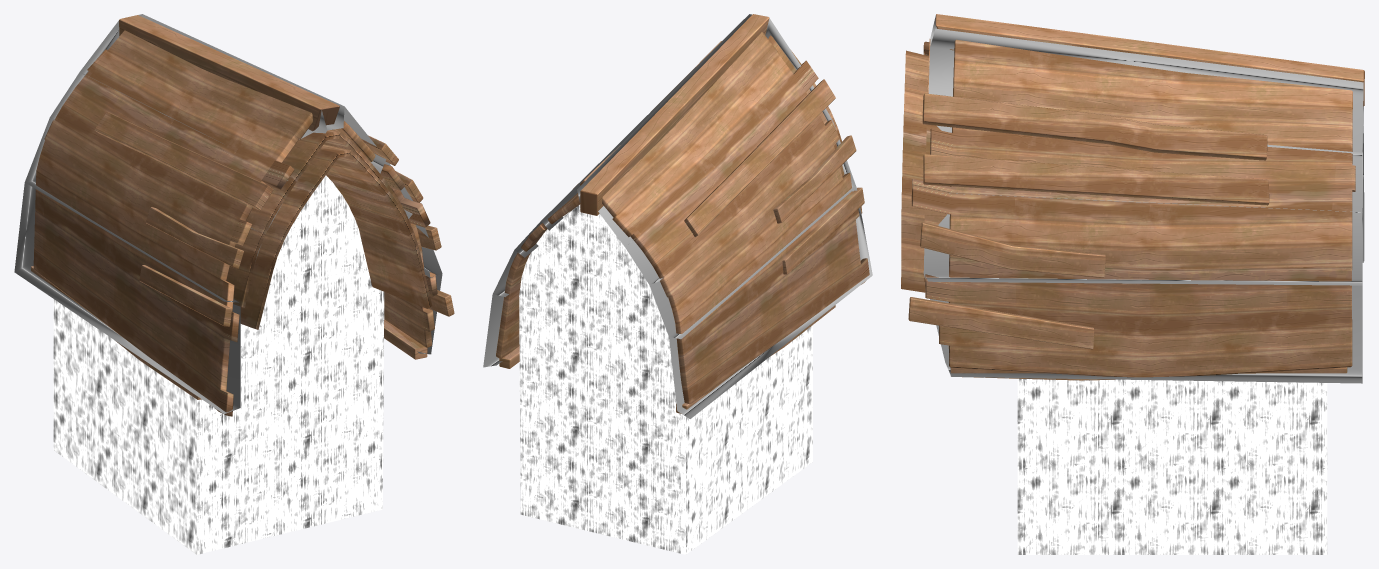
Rendered from SM_BuildingBase_03.gltf.
3 views of the same model, side by side, from view 1: azimuth 30°, elevation 25°; view 2: azimuth 150°, elevation 25°; view 3: azimuth 270°, elevation 25° (orthographic). The views are drawn at different scales.
Parts seen in each view (by area): view 1: SM_BuildingBase_03_LOD0, SM_BuildingBase_03_ConvexHulls; view 2: SM_BuildingBase_03_LOD0, SM_BuildingBase_03_ConvexHulls; view 3: SM_BuildingBase_03_LOD0, SM_BuildingBase_03_ConvexHulls.
Boxes of the visible parts, x1=… form: SM_BuildingBase_03_LOD0: x1=31, y1=15, x2=454, y2=554; SM_BuildingBase_03_ConvexHulls: x1=14, y1=14, x2=442, y2=413; SM_BuildingBase_03_LOD0: x1=496, y1=14, x2=869, y2=554; SM_BuildingBase_03_ConvexHulls: x1=483, y1=14, x2=872, y2=418; SM_BuildingBase_03_LOD0: x1=901, y1=14, x2=1364, y2=554; SM_BuildingBase_03_ConvexHulls: x1=923, y1=15, x2=1364, y2=383.
Size of what is drawn, in the model's own units: 7.55 by 13.94 by 11.98.
3 materials, 2 textured.
